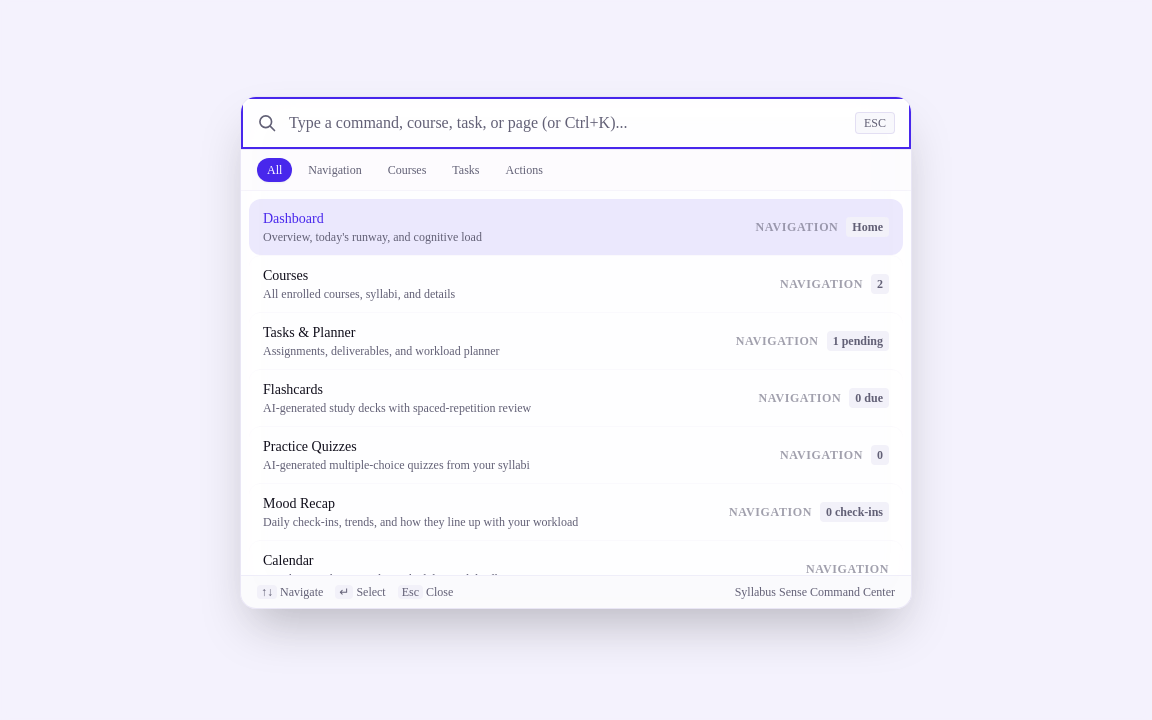
Test: CommandPalette (Item 34) › allows category filter pills to narrow search results
The image size is (1152, 720).
Click the button "Courses": coordinates (407, 170) [378, 158, 436, 182]
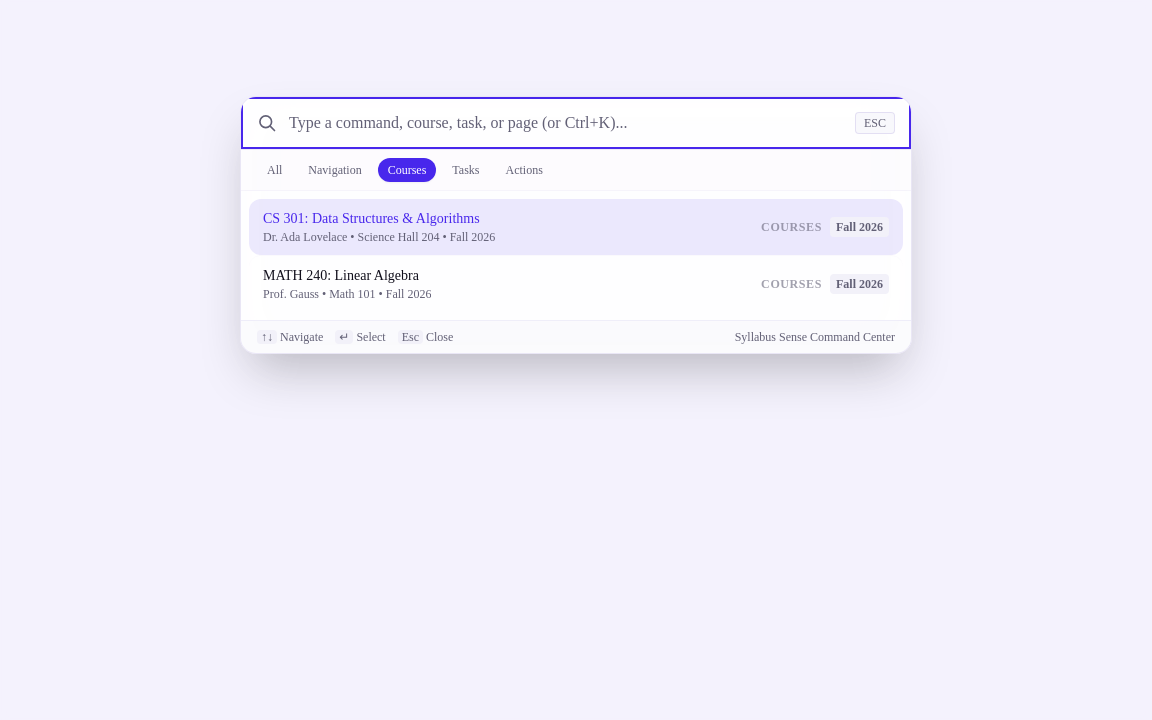
Result: the text "CS 301: Data Structures & Algorithms" is shown at [263, 209, 495, 229]
Result: the option "Dashboard" is gone
